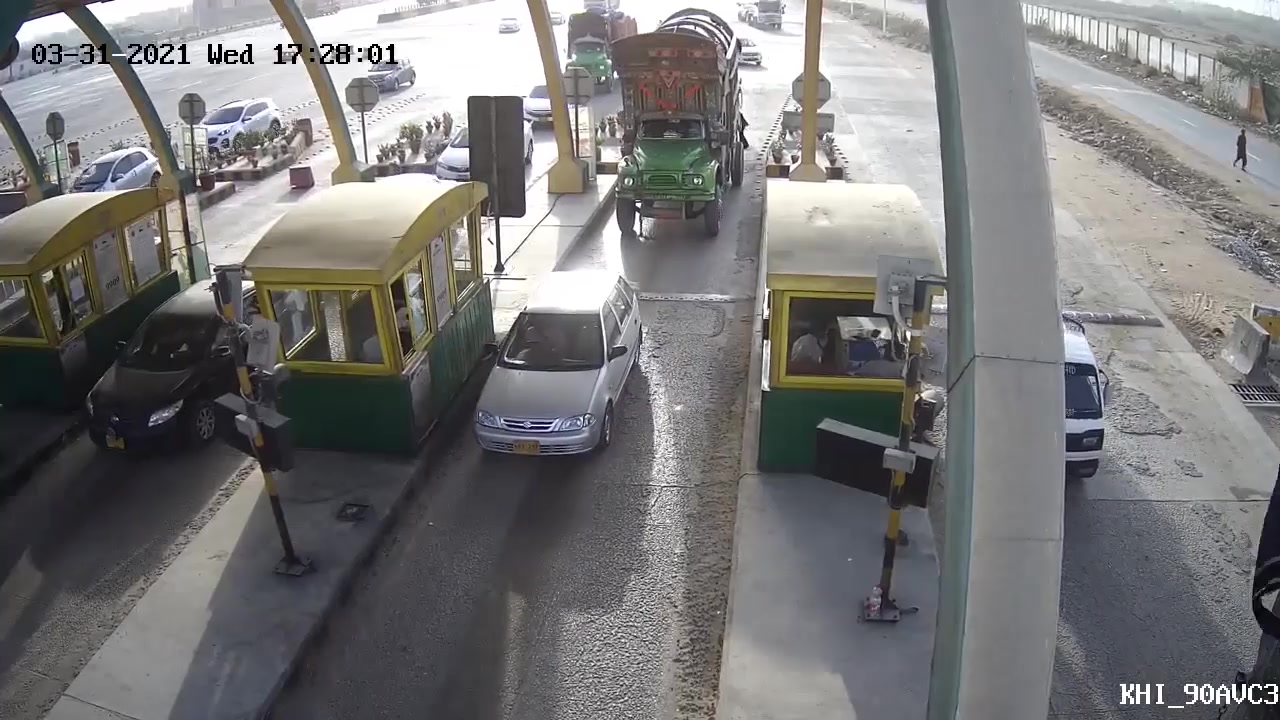F1: (453, 266, 657, 475)
F5: (599, 8, 749, 240)
